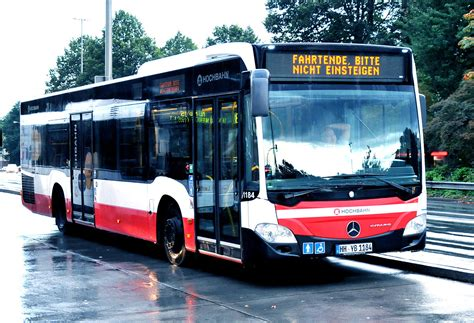bus: (19, 42, 425, 268)
